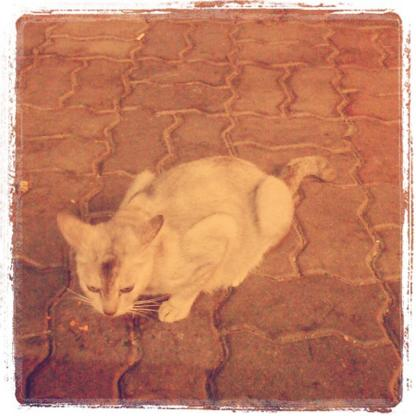Cat: (54, 152, 338, 324)
